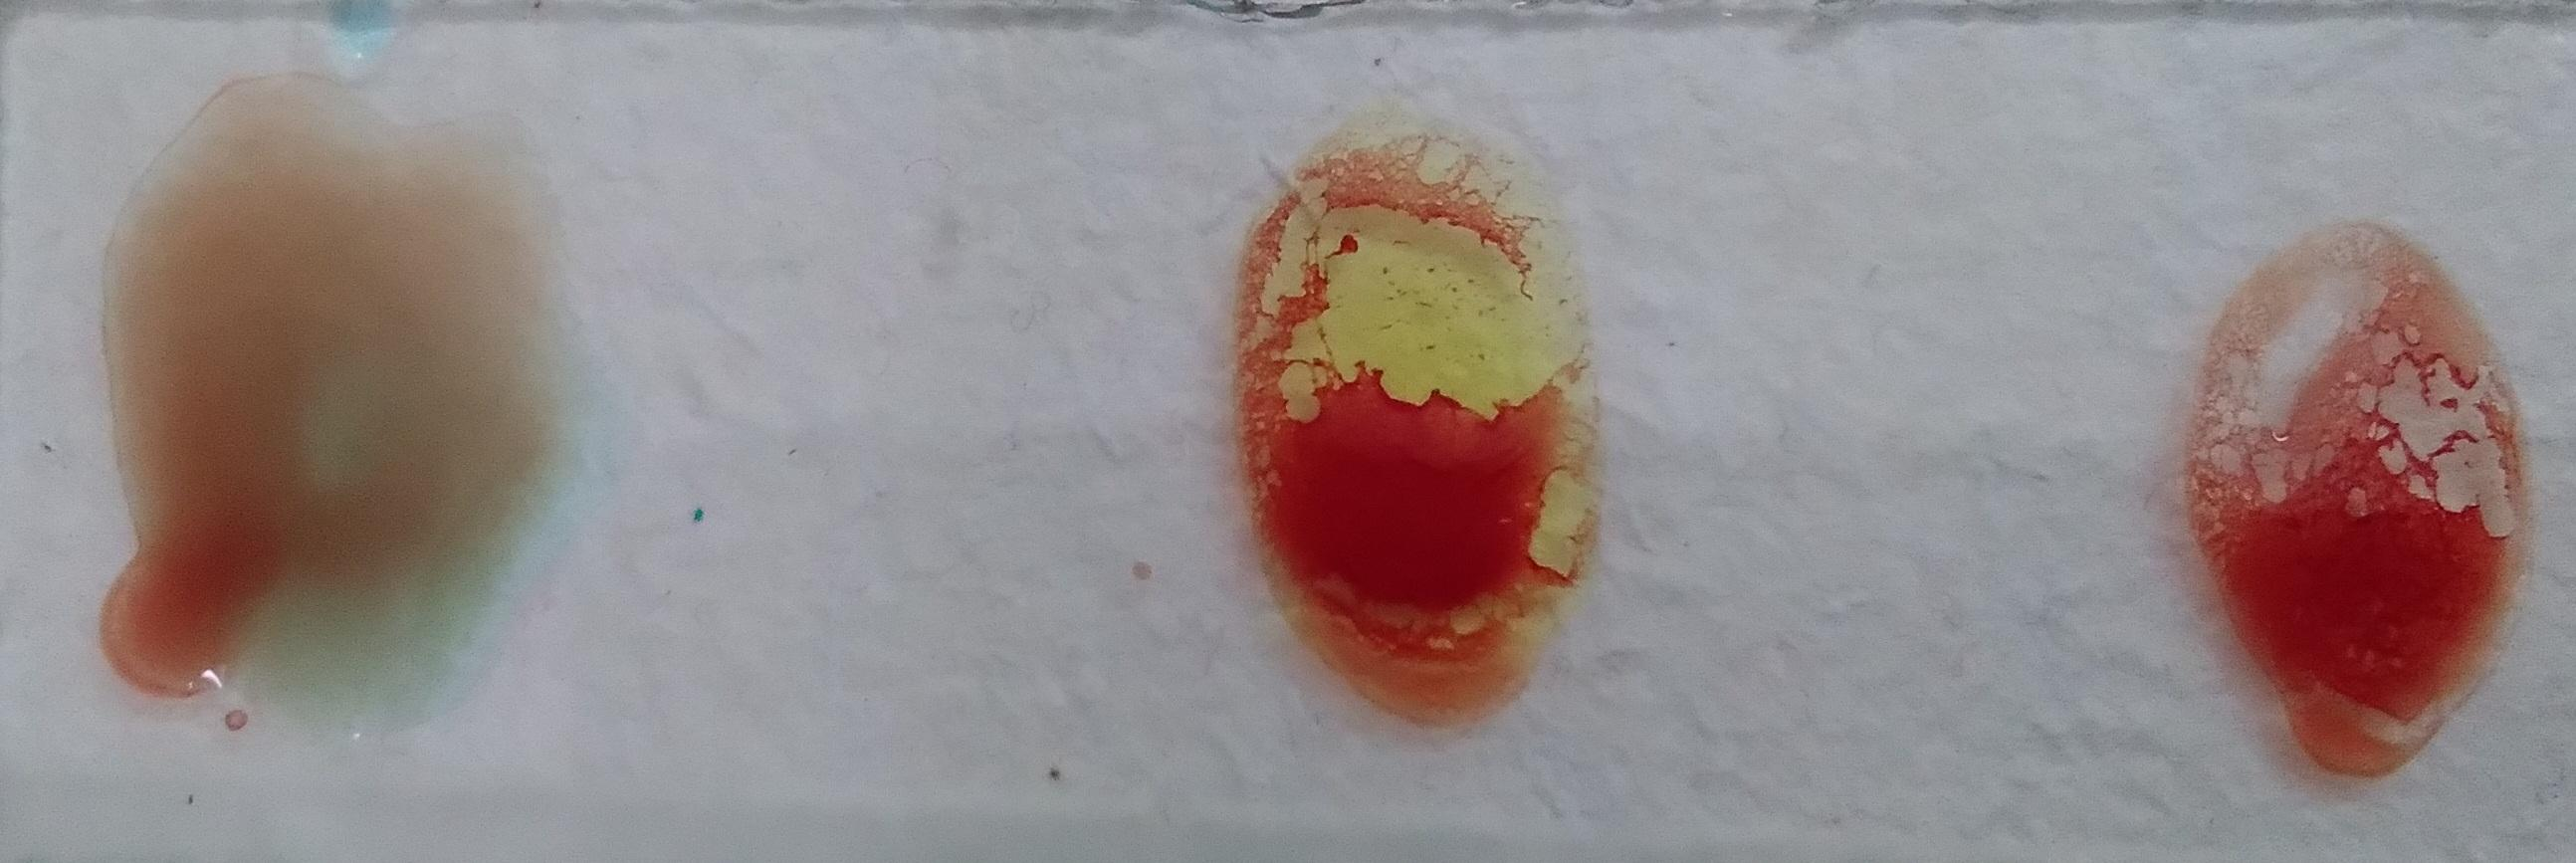B: (973, 127, 1324, 722)
D: (64, 82, 363, 633)
